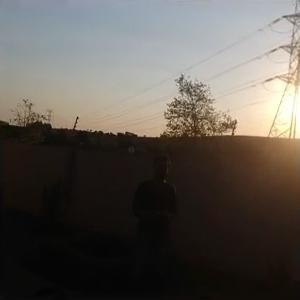follow: (126, 142, 180, 298)
